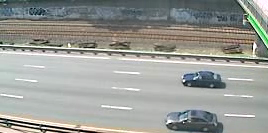car: (163, 107, 221, 133), (179, 69, 224, 90)
